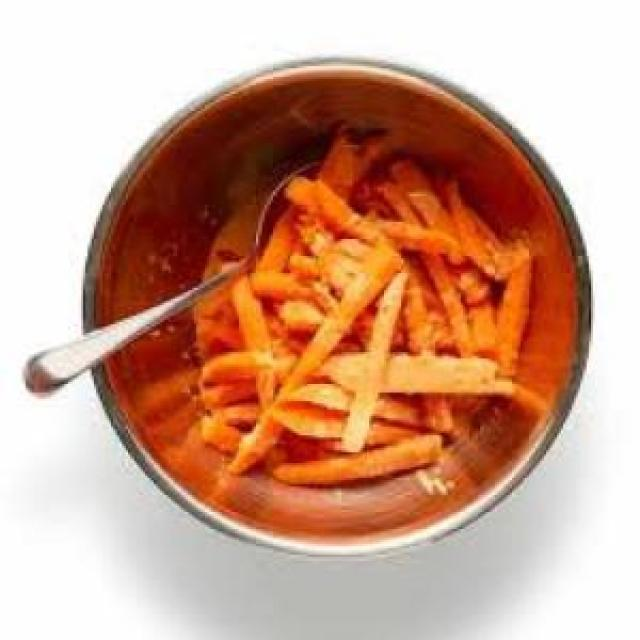French Fries: (180, 123, 541, 484)
